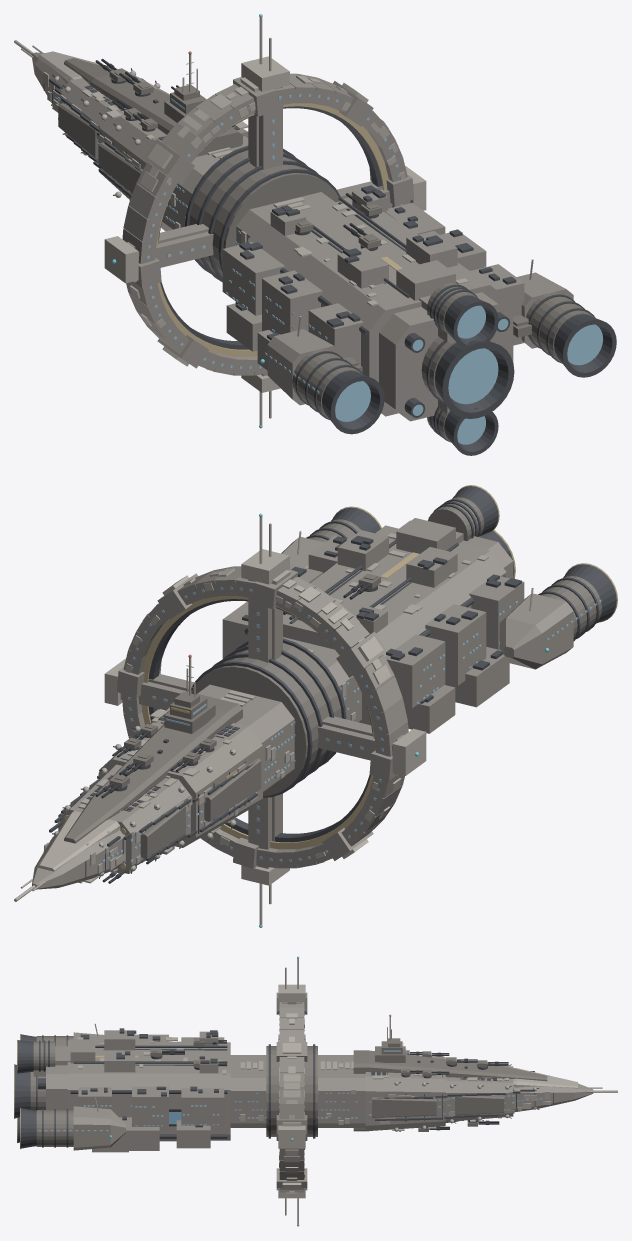
File: qin-reclamation.glb
3 renders of one model, top to bottom at view 1: azimuth 30°, elevation 25°; view 2: azimuth 150°, elevation 25°; view 3: azimuth 270°, elevation 25°, orthographic. The views are drawn at different scales.
Parts seen in each view (by area): view 1: main_hull_000, aft_module_000, ring_segment_000, engine_bell_000, engine_glow_000, hub_collar_000, engine_housing_000, cross_pylon_000, pylon_cap_000, pod_nose_000, dorsal_spine_000, hub_band_000 (+16 smaller); view 2: main_hull_000, aft_module_000, ring_segment_000, cross_pylon_000, hub_collar_000, dorsal_spine_000, pod_nose_000, pylon_cap_000, hull_plate_000, engine_housing_000, hub_band_000, cheek_armor_000 (+16 smaller); view 3: main_hull_000, aft_module_000, ring_segment_000, dorsal_spine_000, engine_housing_000, cheek_armor_000, engine_bell_000, pod_nose_000, hub_collar_000, hull_plate_000, pylon_cap_000, conduit_000 (+11 smaller).
Boxes of the visible parts, bbox=[...] form: main_hull_000: bbox=[32, 52, 513, 421]; aft_module_000: bbox=[222, 187, 524, 413]; ring_segment_000: bbox=[122, 73, 414, 375]; engine_bell_000: bbox=[322, 295, 616, 455]; engine_glow_000: bbox=[335, 305, 602, 444]; hub_collar_000: bbox=[189, 150, 339, 277]; engine_housing_000: bbox=[292, 282, 594, 442]; cross_pylon_000: bbox=[127, 87, 410, 376]; pylon_cap_000: bbox=[104, 56, 426, 392]; pod_nose_000: bbox=[267, 272, 573, 405]; dorsal_spine_000: bbox=[64, 58, 242, 156]; hub_band_000: bbox=[184, 145, 340, 282]; main_hull_000: bbox=[32, 520, 513, 889]; aft_module_000: bbox=[222, 518, 524, 733]; ring_segment_000: bbox=[117, 566, 408, 868]; cross_pylon_000: bbox=[120, 579, 403, 868]; hub_collar_000: bbox=[191, 643, 341, 796]; dorsal_spine_000: bbox=[64, 694, 242, 843]; pod_nose_000: bbox=[281, 537, 573, 669]; pylon_cap_000: bbox=[104, 549, 426, 885]; hull_plate_000: bbox=[44, 533, 488, 883]; engine_housing_000: bbox=[309, 497, 601, 638]; hub_band_000: bbox=[191, 638, 346, 797]; cheek_armor_000: bbox=[58, 758, 261, 858]; main_hull_000: bbox=[46, 1040, 593, 1141]; aft_module_000: bbox=[70, 1030, 224, 1152]; ring_segment_000: bbox=[276, 992, 307, 1192]; dorsal_spine_000: bbox=[353, 1050, 547, 1081]; engine_housing_000: bbox=[30, 1036, 73, 1146]; cheek_armor_000: bbox=[372, 1095, 504, 1117]; engine_bell_000: bbox=[14, 1034, 36, 1148]; pod_nose_000: bbox=[73, 1032, 125, 1150]; hub_collar_000: bbox=[266, 1046, 317, 1136]; hull_plate_000: bbox=[77, 1037, 551, 1130]; pylon_cap_000: bbox=[278, 984, 305, 1198]; conduit_000: bbox=[70, 1045, 227, 1138].
Size of the model in its own units: 3.75 by 4.84 by 9.82.
